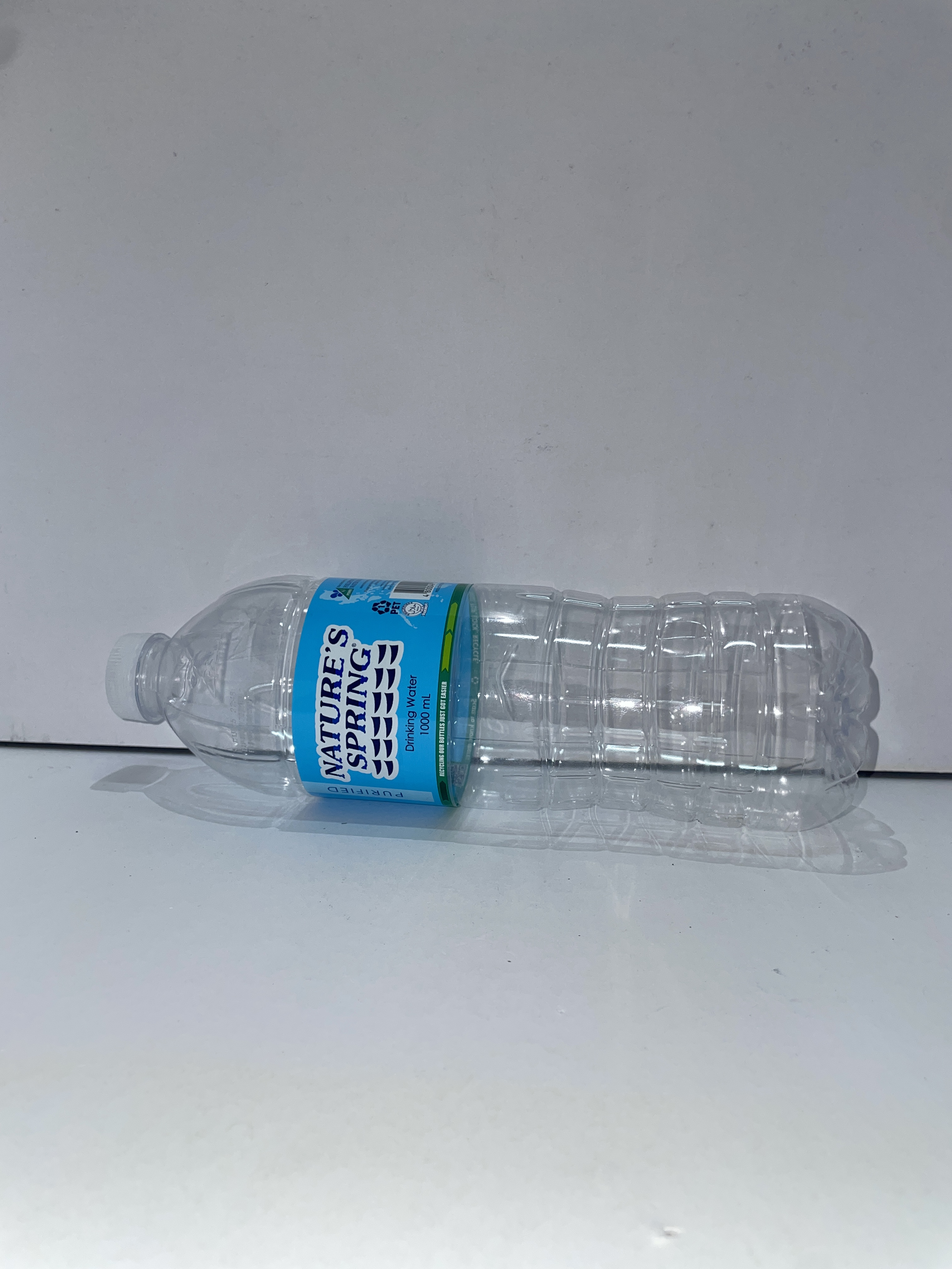Nature spring 1000ml: (106, 576, 871, 831)
